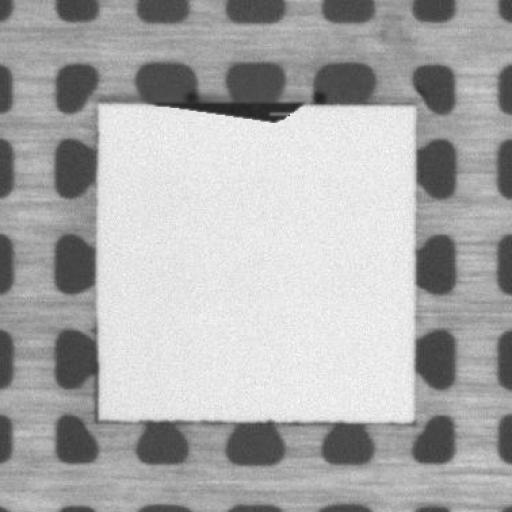DIE_BROKEN: (146, 98, 309, 124)
